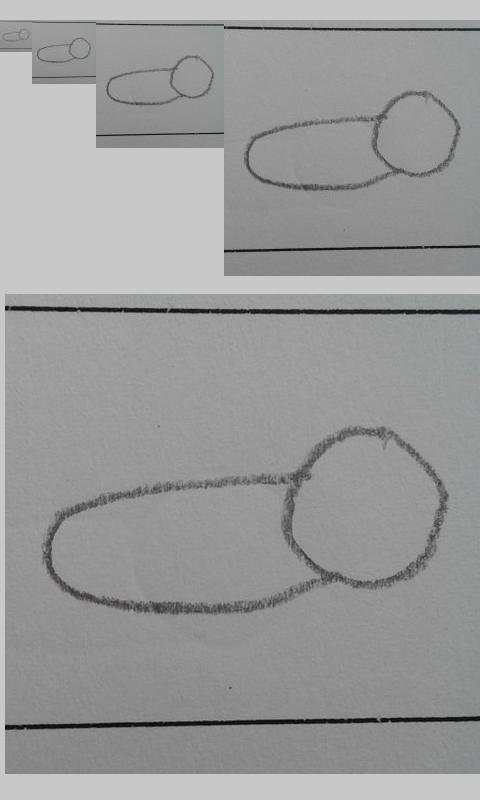switch: (242, 90, 462, 193), (106, 55, 214, 106), (36, 37, 92, 63), (1, 28, 31, 42)
